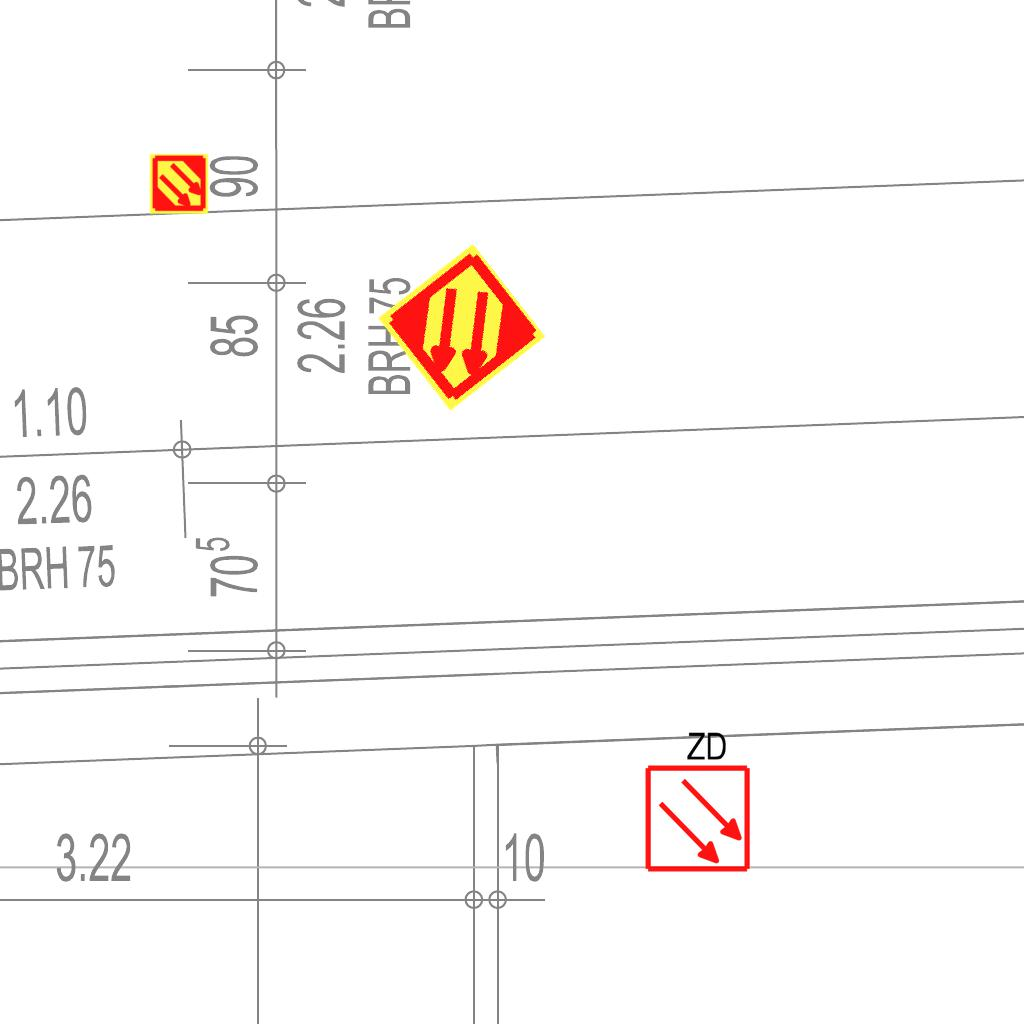ASR_Ansaugrauchmelder: (373, 239, 550, 416), (148, 153, 210, 215)
ZD_Melder_in_Zwischendecke_mit_Revisionsoeffnung_mind_40_x_40_cm: (639, 725, 753, 874)
